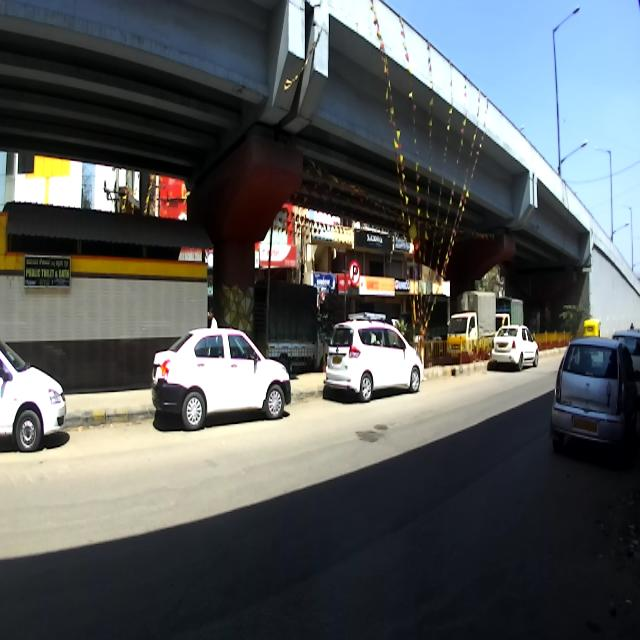car ahead at: (148, 321, 292, 429), (320, 314, 428, 412), (550, 338, 638, 453)
